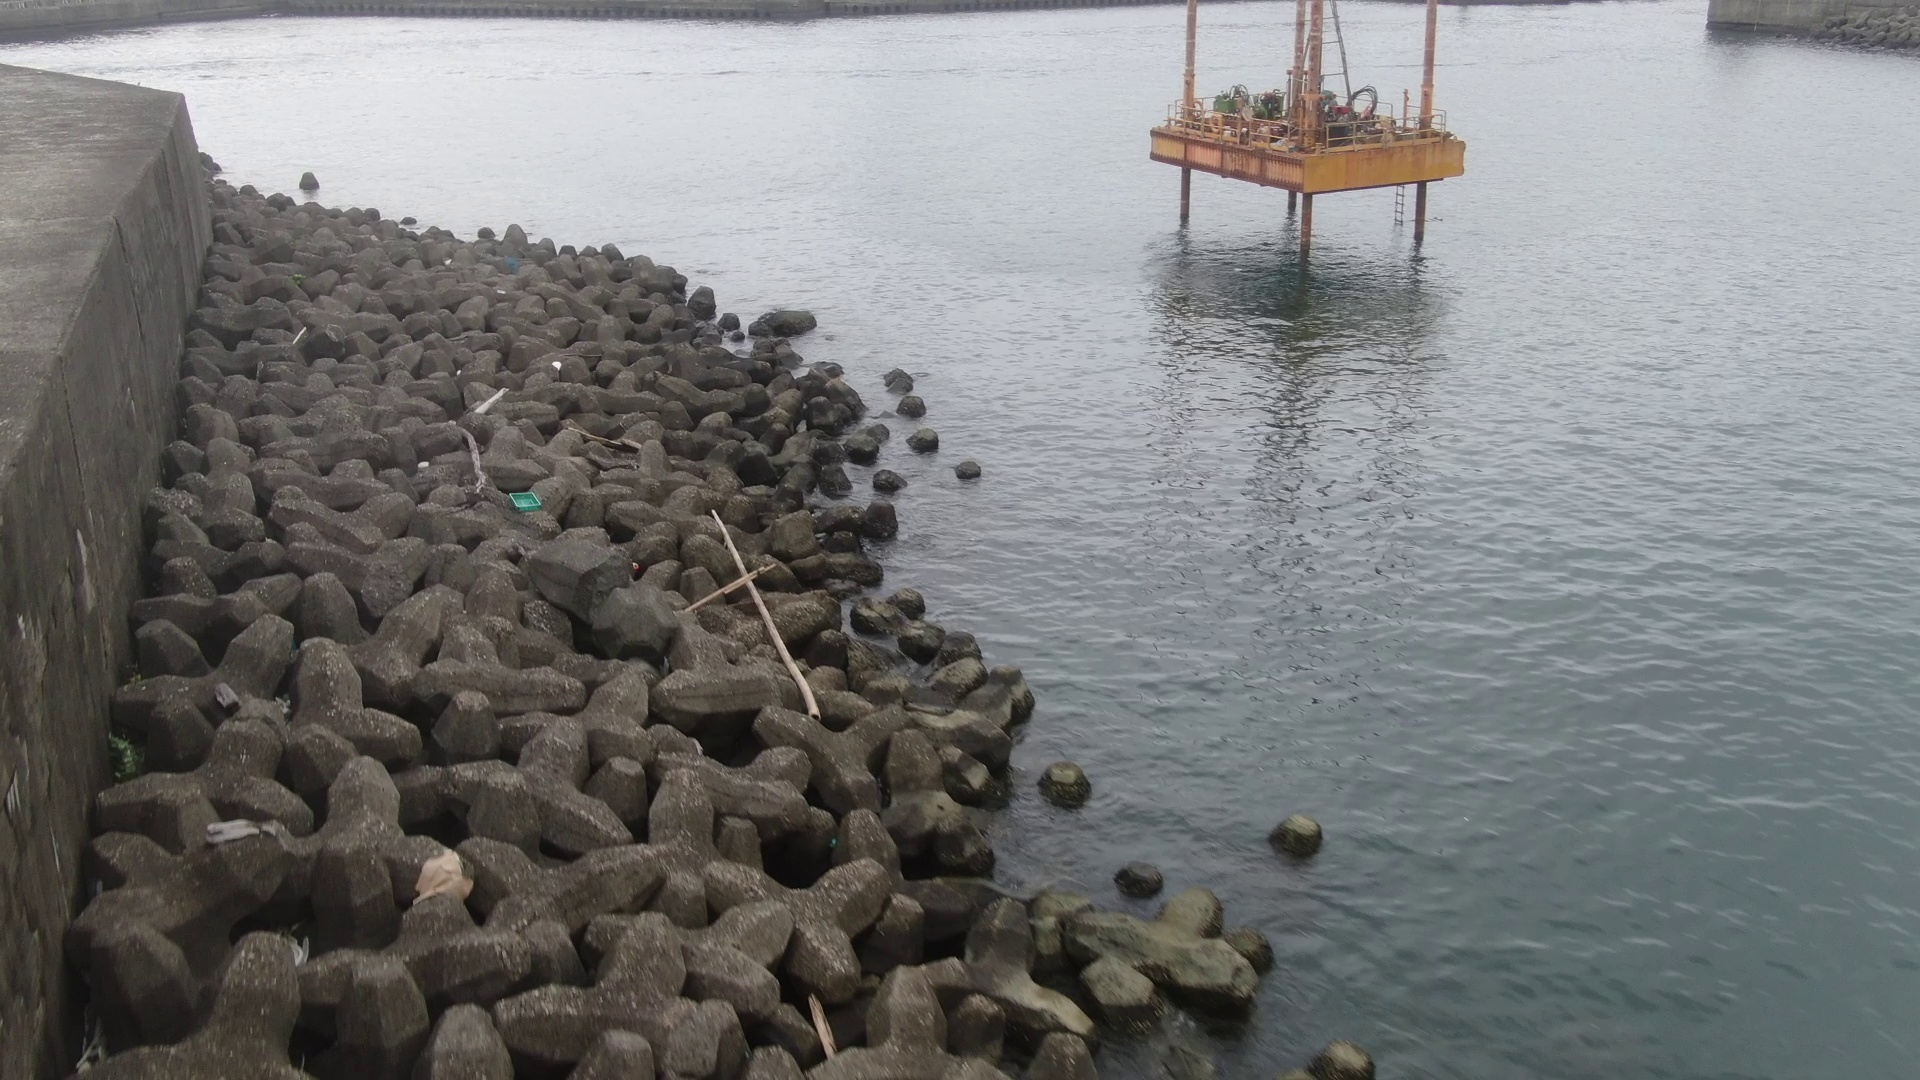garbage: (409, 837, 484, 901), (506, 485, 554, 516)
